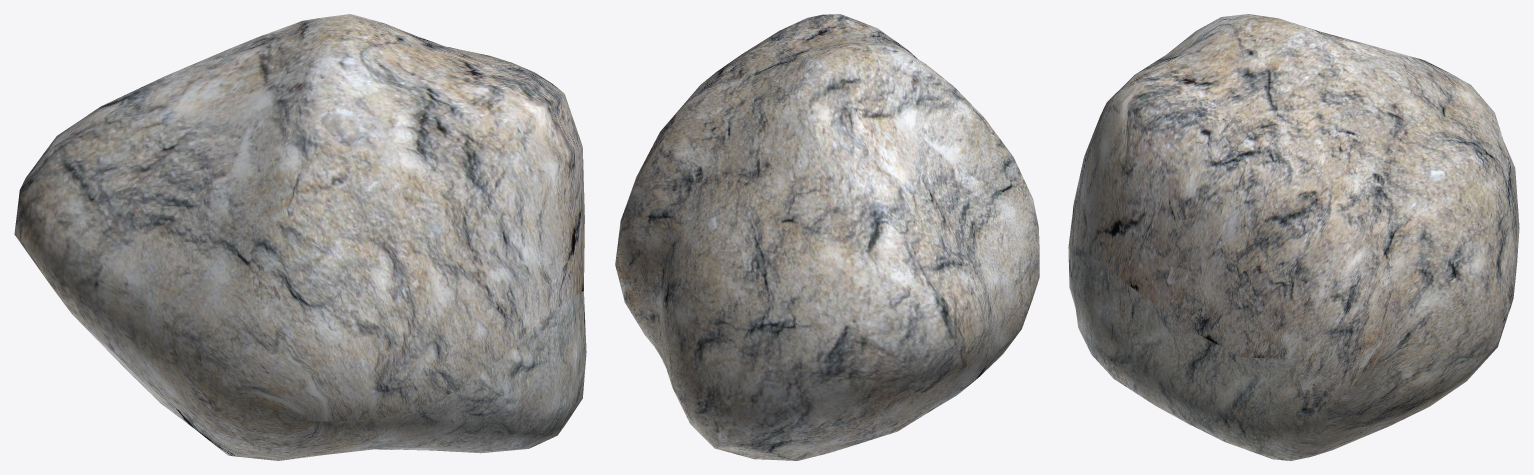
The model's file is tas2.fbx.
3 renders of one model, left to right at view 1: azimuth 30°, elevation 25°; view 2: azimuth 150°, elevation 25°; view 3: azimuth 270°, elevation 25°, orthographic. The views are drawn at different scales.
Visible parts, largest first — view 1: rock3; view 2: rock3; view 3: rock3.
Part boxes in pixels (x1=…): rock3: x1=14, y1=14, x2=586, y2=460; rock3: x1=615, y1=14, x2=1039, y2=460; rock3: x1=1068, y1=14, x2=1519, y2=460.
Bounding box in the file's own units: 30.89 × 29.46 × 30.88.
